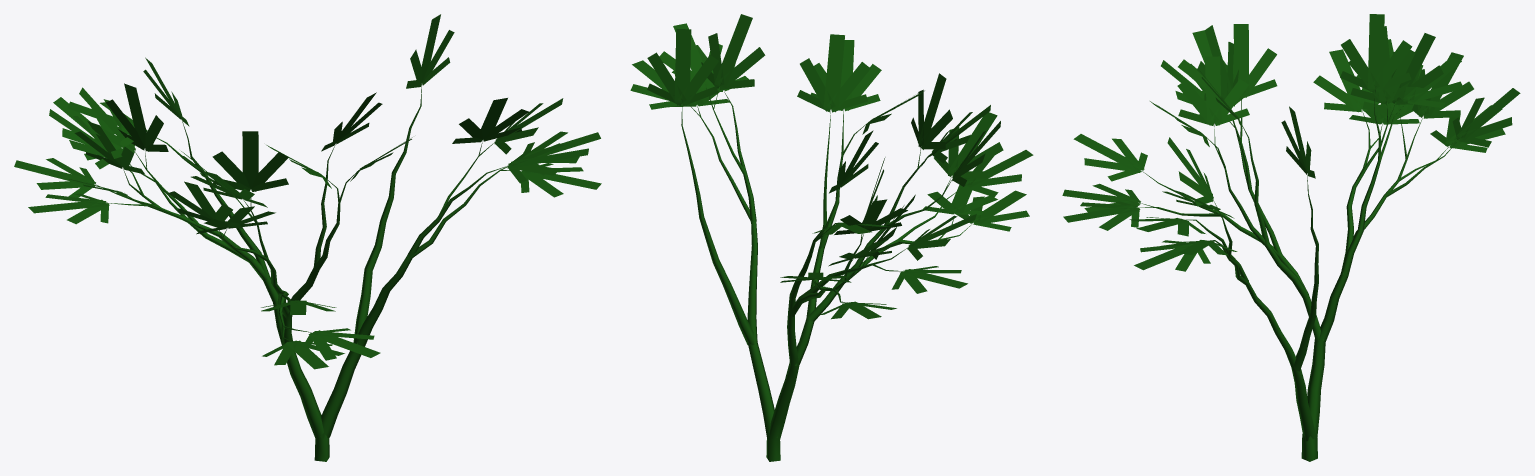
File: Tree4.fbx
The picture shows the model from 3 angles, left to right: view 1: azimuth 30°, elevation 25°; view 2: azimuth 150°, elevation 25°; view 3: azimuth 270°, elevation 25°; orthographic projection. The views are drawn at different scales.
Visible parts, largest first — view 1: Tree4; view 2: Tree4; view 3: Tree4.
Boxes of the visible parts, x1,y1,x2,y2 form: Tree4: [14, 14, 601, 461]; Tree4: [630, 14, 1033, 461]; Tree4: [1062, 14, 1520, 461].
Bounding box in the file's own units: 950 × 834 × 871.
